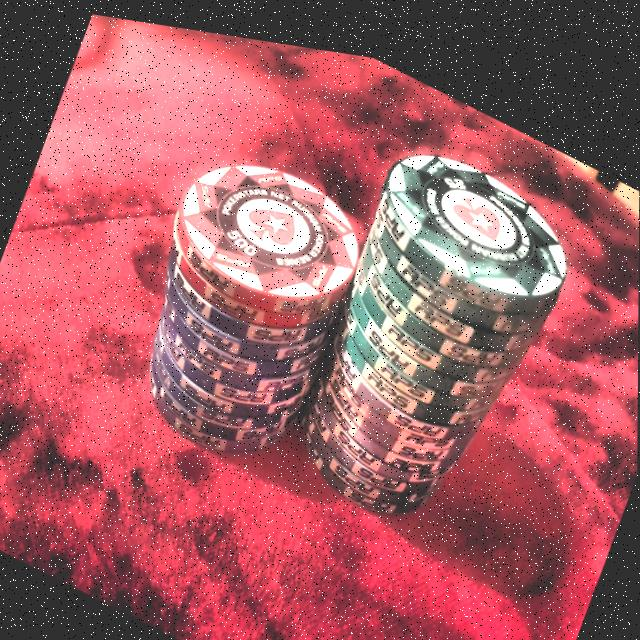Chip: (273, 87, 593, 566), (97, 104, 383, 498)
